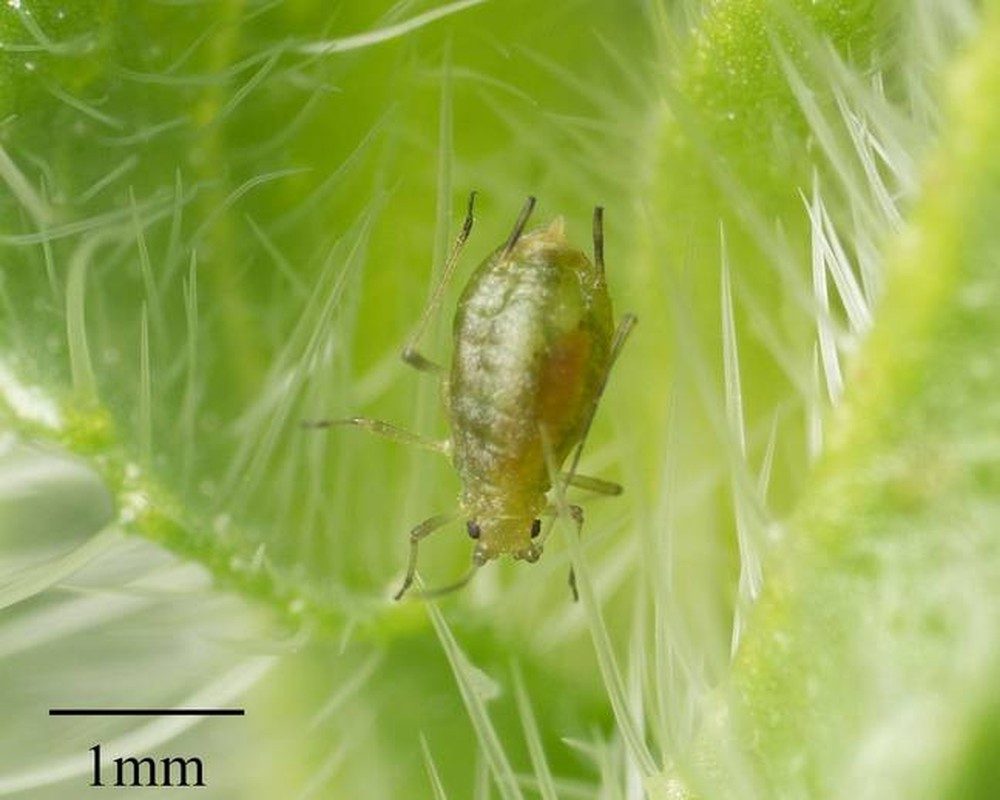Pulgon: (324, 190, 671, 634)
